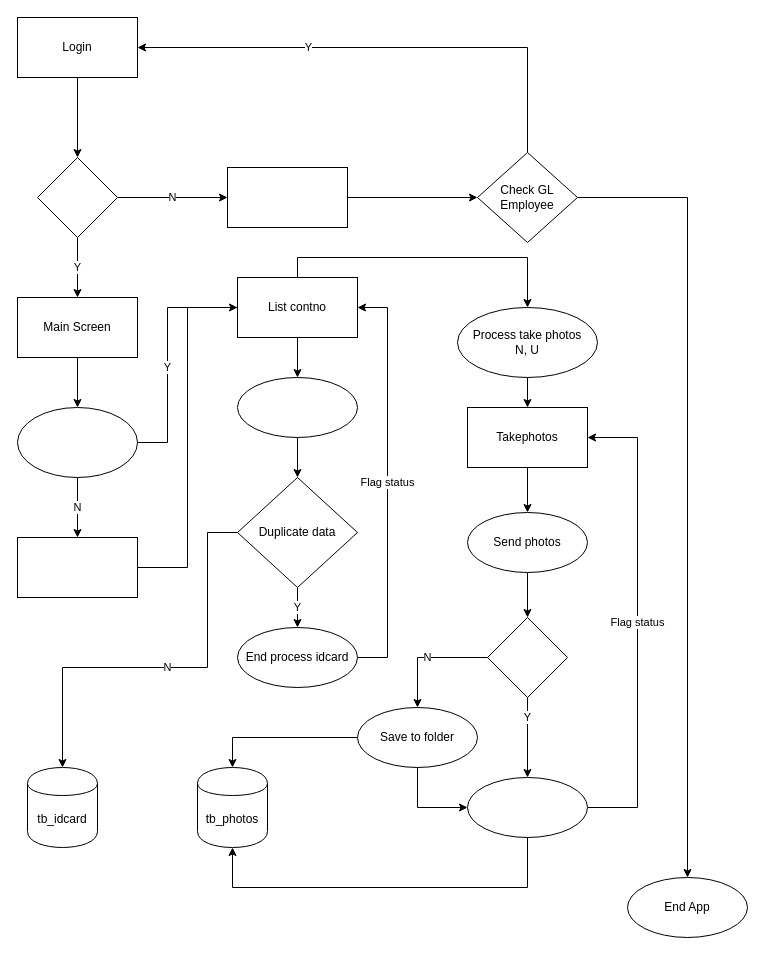
Some shapes in this 765 by 955 pixel diagram are drawn without their labels. The box of each missing label's shape, as (x1, y1, x2, y2) in pixels:
Add Contno GL with cardread: (16, 406, 138, 478)
App add data auto.: (16, 536, 138, 598)
Check photo: (486, 616, 568, 698)
process flag status: (466, 776, 588, 838)
Register App: (226, 166, 348, 228)
Register App ?: (36, 156, 118, 238)
Send data card: (236, 376, 358, 438)
